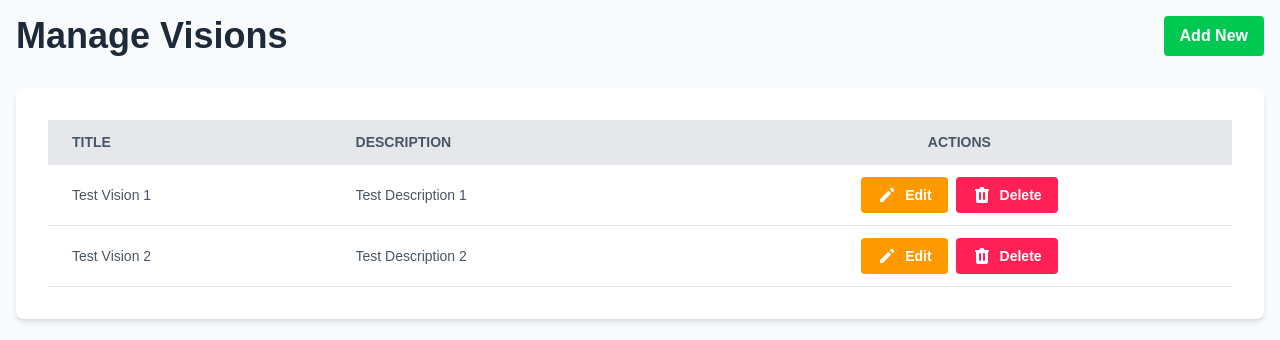
Test: VisionPage › deletes a vision when delete is confirmed
Step 1. Click the button "Delete" in the row of "Test Vision 1" → (1007, 195), box [956,177,1058,213]
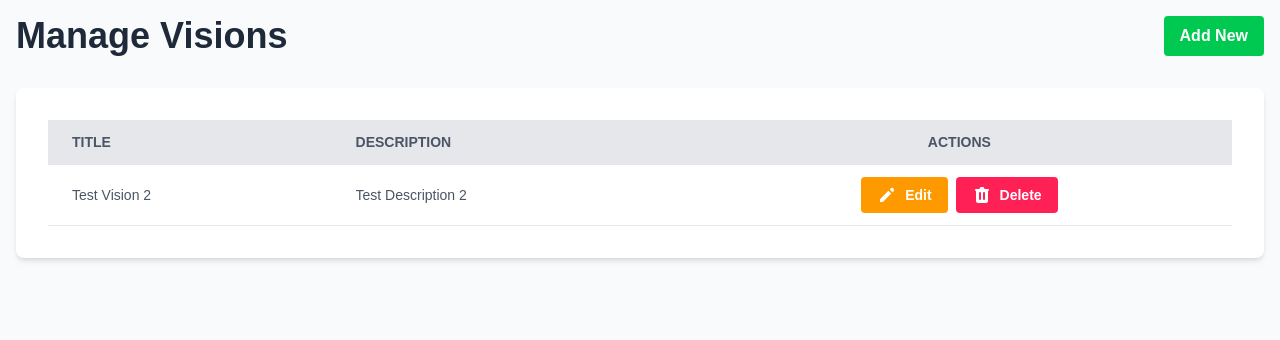
Expected: the text "Test Vision 1" is gone
